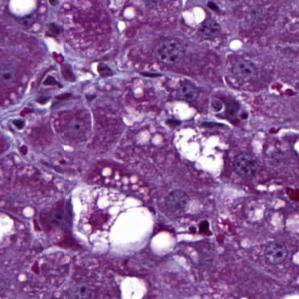ballooning: (70, 178, 155, 260)
